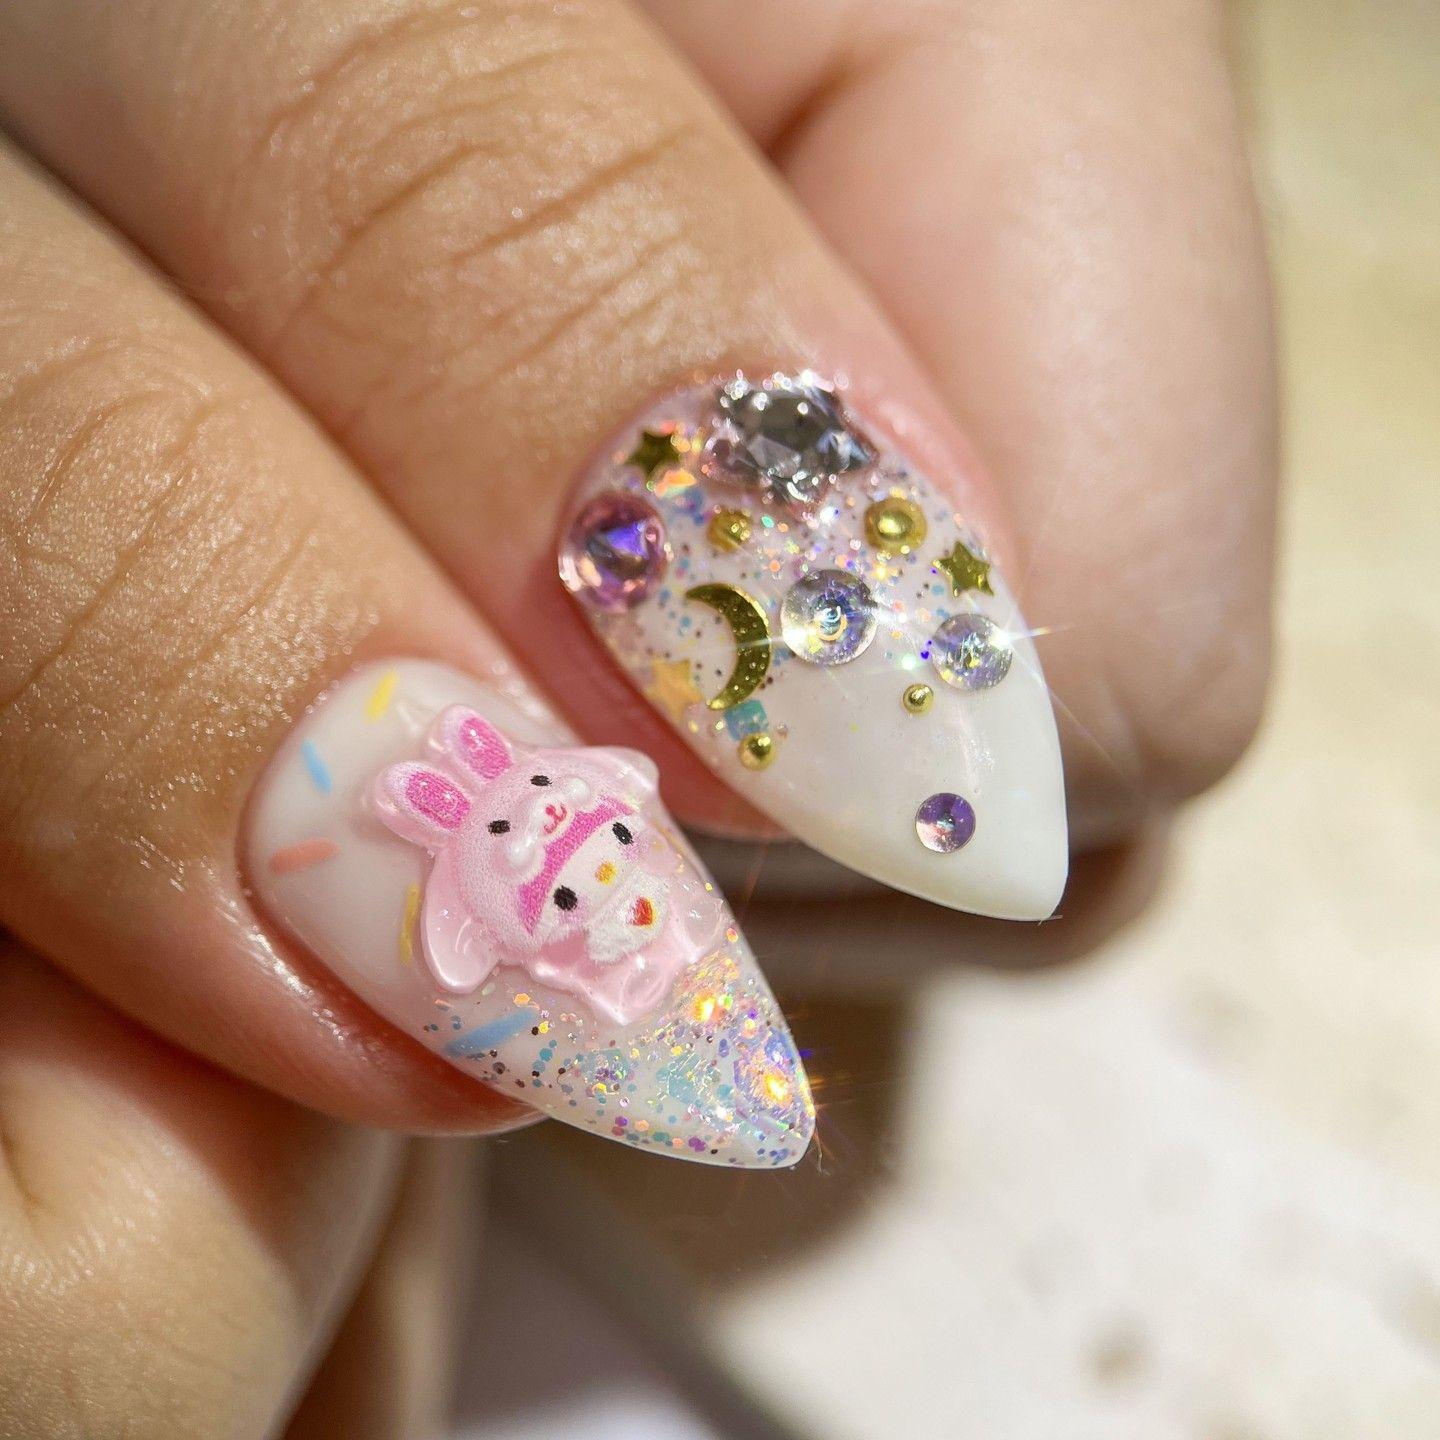nail: (233, 651, 819, 1172), (550, 363, 1071, 923)
